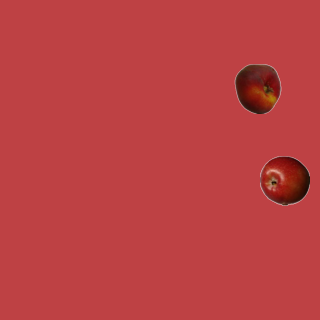Apple Braeburn: (259, 155, 309, 205)
Nectarine Flat: (232, 63, 282, 113)
